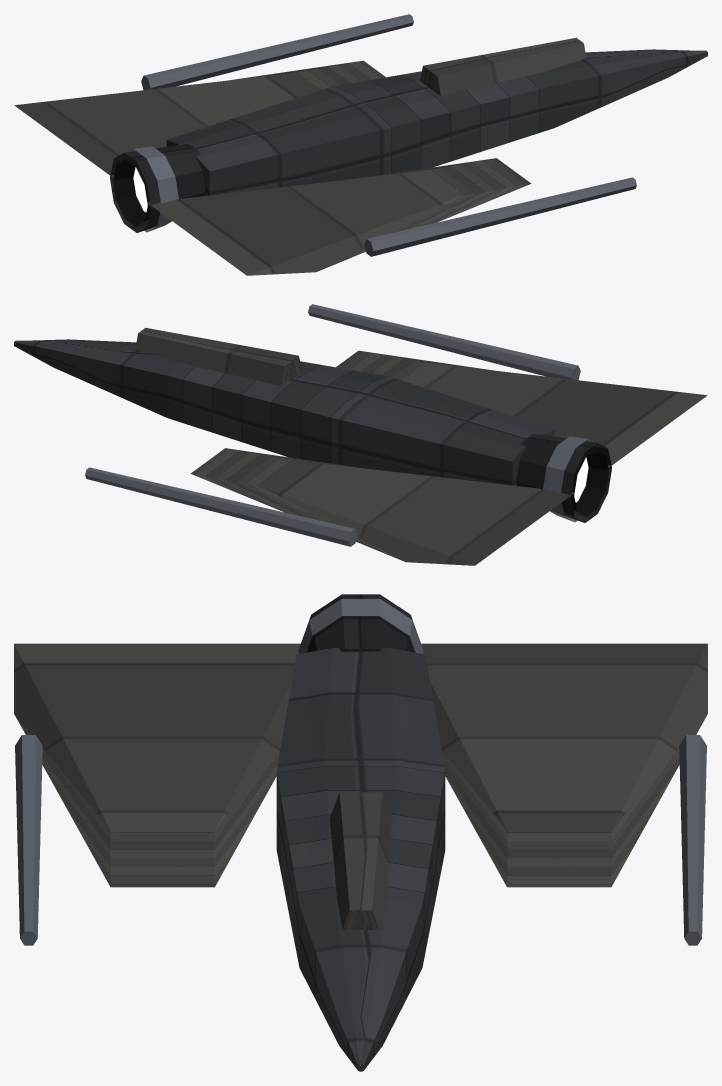
File: interceptor1.glb
3 renders of one model, top to bottom at view 1: azimuth 30°, elevation 25°; view 2: azimuth 150°, elevation 25°; view 3: azimuth 270°, elevation 25°, orthographic. The views are drawn at different scales.
Visible parts, largest first — view 1: interceptor; view 2: interceptor; view 3: interceptor.
Boxes of the visible parts, x1,y1,x2,y2 form: interceptor: [14, 14, 707, 275]; interceptor: [14, 304, 707, 565]; interceptor: [14, 594, 707, 1071].
Bounding box in the file's own units: 4 × 0.5693 × 2.8.
1 material, 1 textured.
